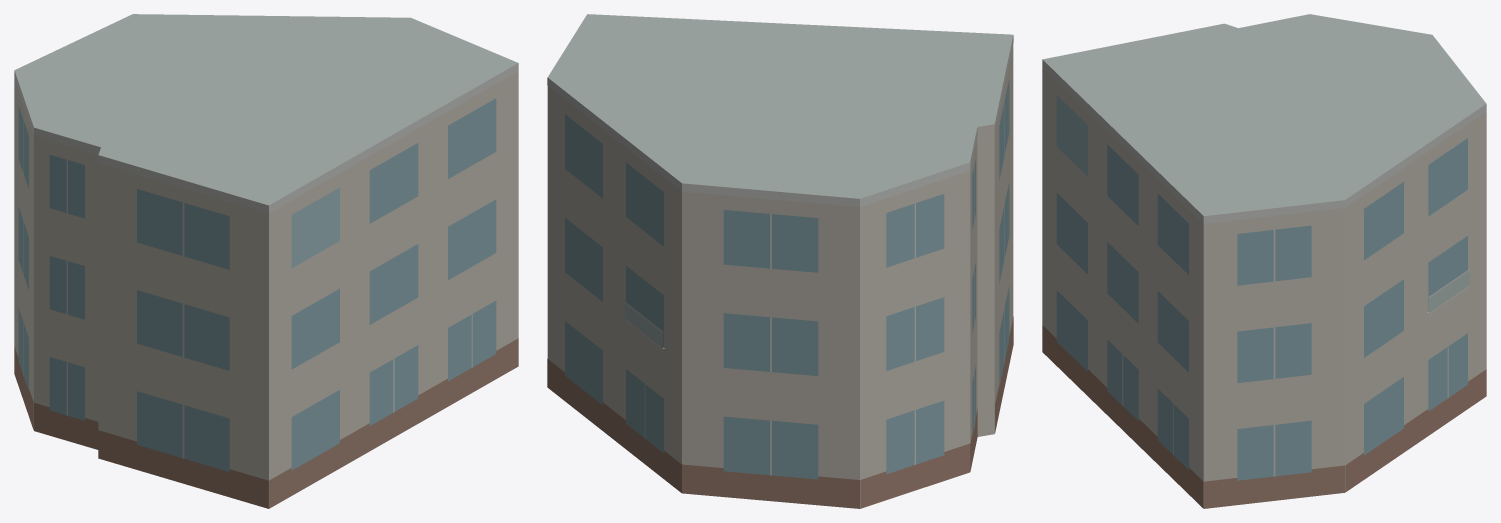
File: survey-upis-32580426.glb
3 views of the same model, side by side, from view 1: azimuth 30°, elevation 25°; view 2: azimuth 150°, elevation 25°; view 3: azimuth 270°, elevation 25° (orthographic). The views are drawn at different scales.
Visible parts, largest first — view 1: survey-upis-32580426.tmp; view 2: survey-upis-32580426.tmp; view 3: survey-upis-32580426.tmp.
Part boxes in pixels (x1,y1,x2,y2): survey-upis-32580426.tmp: (14, 14, 518, 508); survey-upis-32580426.tmp: (547, 14, 1013, 508); survey-upis-32580426.tmp: (1042, 14, 1486, 508).
Size of the model in its own units: 13.57 by 9.15 by 12.6.
